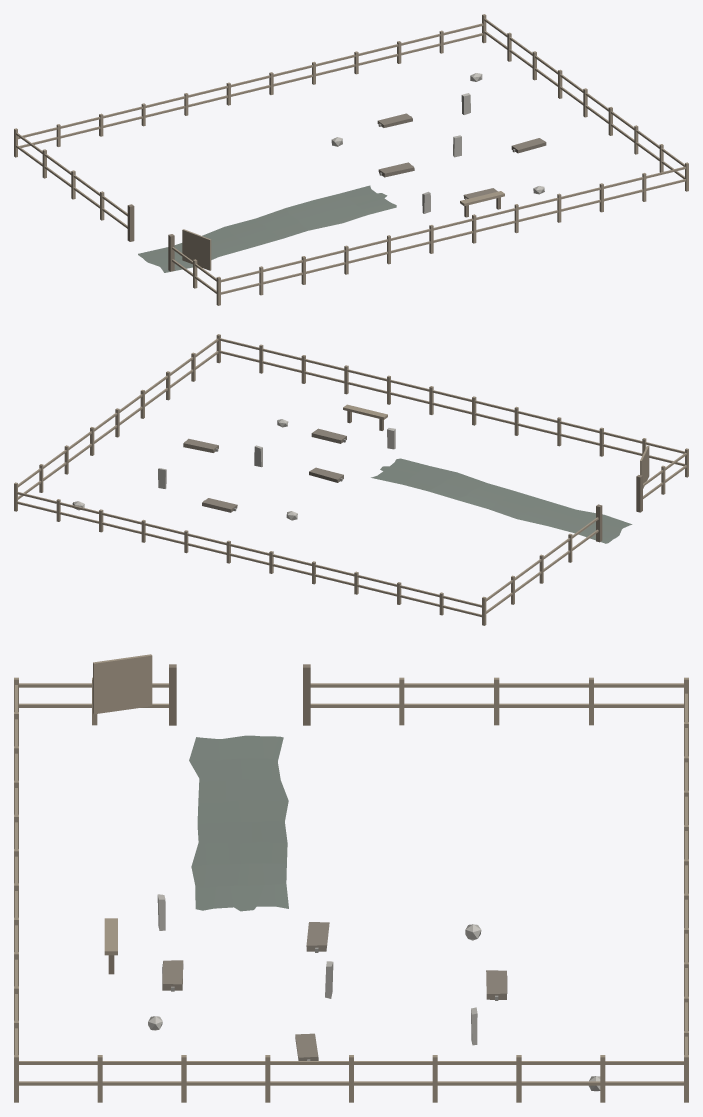
File: agentb_zirat_kit.glb
3 renders of one model, top to bottom at view 1: azimuth 30°, elevation 25°; view 2: azimuth 150°, elevation 25°; view 3: azimuth 270°, elevation 25°, orthographic. The views are drawn at different scales.
Parts seen in each view (by area): view 1: Zirat_Path, Zirat_FenceS_RailL.001, Zirat_FenceS_RailL, Zirat_FenceN_RailL, Zirat_FenceN_RailL.001, Zirat_GateLeaf, Zirat_FenceE_RailL.001, Zirat_FenceE_RailL; view 2: Zirat_Path, Zirat_FenceS_RailL.001, Zirat_FenceN_RailL.001, Zirat_FenceN_RailL, Zirat_FenceS_RailL, Zirat_FenceE_RailL.001, Zirat_FenceE_RailL; view 3: Zirat_Path, Zirat_FenceE_RailL, Zirat_GateLeaf, Zirat_FenceE_RailL.001, Zirat_FenceW_N_RailL.001, Zirat_FenceW_N_RailL, Zirat_FenceN_RailL.001, Zirat_FenceS_RailL.001.
Part boxes in pixels (bbox=[...]): Zirat_Path: bbox=[138, 185, 396, 272]; Zirat_FenceS_RailL.001: bbox=[221, 166, 685, 282]; Zirat_FenceS_RailL: bbox=[221, 179, 685, 294]; Zirat_FenceN_RailL: bbox=[19, 33, 483, 147]; Zirat_FenceN_RailL.001: bbox=[18, 23, 483, 139]; Zirat_GateLeaf: bbox=[182, 229, 211, 270]; Zirat_FenceE_RailL.001: bbox=[484, 18, 684, 166]; Zirat_FenceE_RailL: bbox=[484, 31, 684, 178]; Zirat_Path: bbox=[371, 458, 632, 543]; Zirat_FenceS_RailL.001: bbox=[219, 338, 684, 453]; Zirat_FenceN_RailL.001: bbox=[17, 492, 481, 607]; Zirat_FenceN_RailL: bbox=[17, 501, 481, 617]; Zirat_FenceS_RailL: bbox=[219, 350, 684, 466]; Zirat_FenceE_RailL.001: bbox=[18, 338, 218, 487]; Zirat_FenceE_RailL: bbox=[18, 351, 218, 499]; Zirat_Path: bbox=[189, 735, 288, 911]; Zirat_FenceE_RailL: bbox=[19, 1081, 683, 1085]; Zirat_GateLeaf: bbox=[93, 654, 152, 714]; Zirat_FenceE_RailL.001: bbox=[19, 1061, 683, 1064]; Zirat_FenceW_N_RailL.001: bbox=[310, 683, 683, 687]; Zirat_FenceW_N_RailL: bbox=[310, 703, 683, 707]; Zirat_FenceN_RailL.001: bbox=[685, 693, 687, 1054]; Zirat_FenceS_RailL.001: bbox=[15, 685, 17, 1054].
Bounding box in the file's own units: 16.12 × 1.81 × 12.09.
